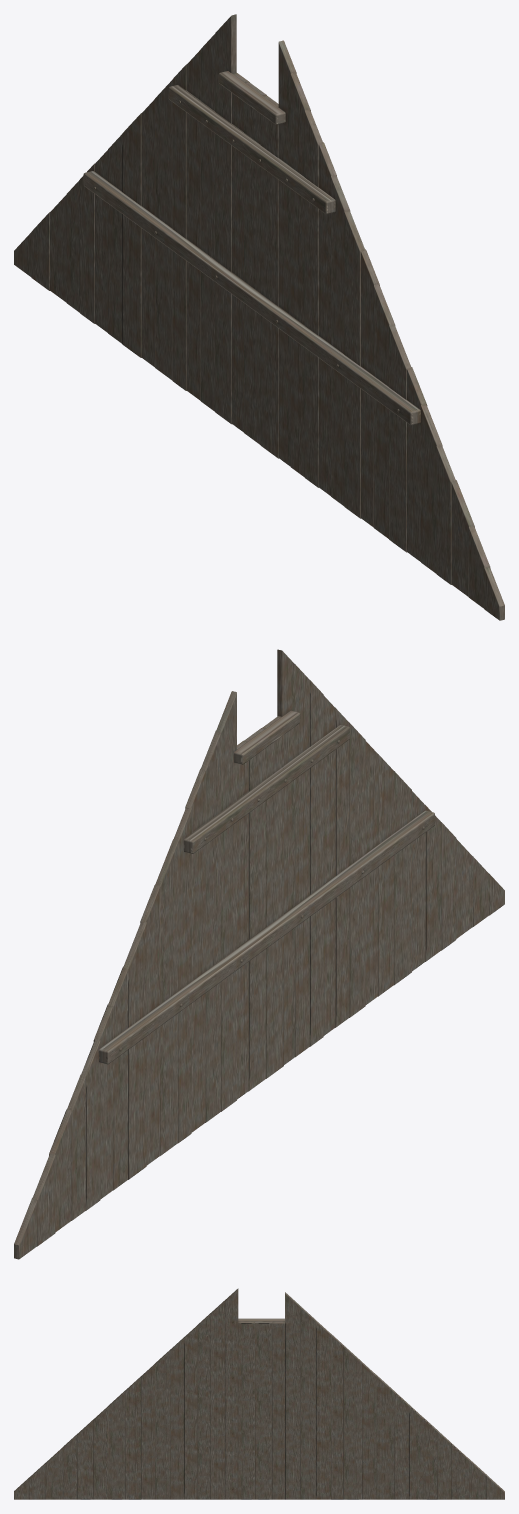
The model's file is gable_wall_8m.glb.
The picture shows the model from 3 angles, top to bottom: view 1: azimuth 30°, elevation 25°; view 2: azimuth 150°, elevation 25°; view 3: azimuth 270°, elevation 25°; orthographic projection. The views are drawn at different scales.
Parts seen in each view (by area): view 1: gable_wall_8m; view 2: gable_wall_8m; view 3: gable_wall_8m.
Part boxes in pixels (bbox=[...]): gable_wall_8m: bbox=[14, 14, 504, 620]; gable_wall_8m: bbox=[14, 649, 504, 1259]; gable_wall_8m: bbox=[14, 1288, 504, 1499].
Bounding box in the file's own units: 0.1615 × 3.79 × 8.01.
1 material, 1 textured.
